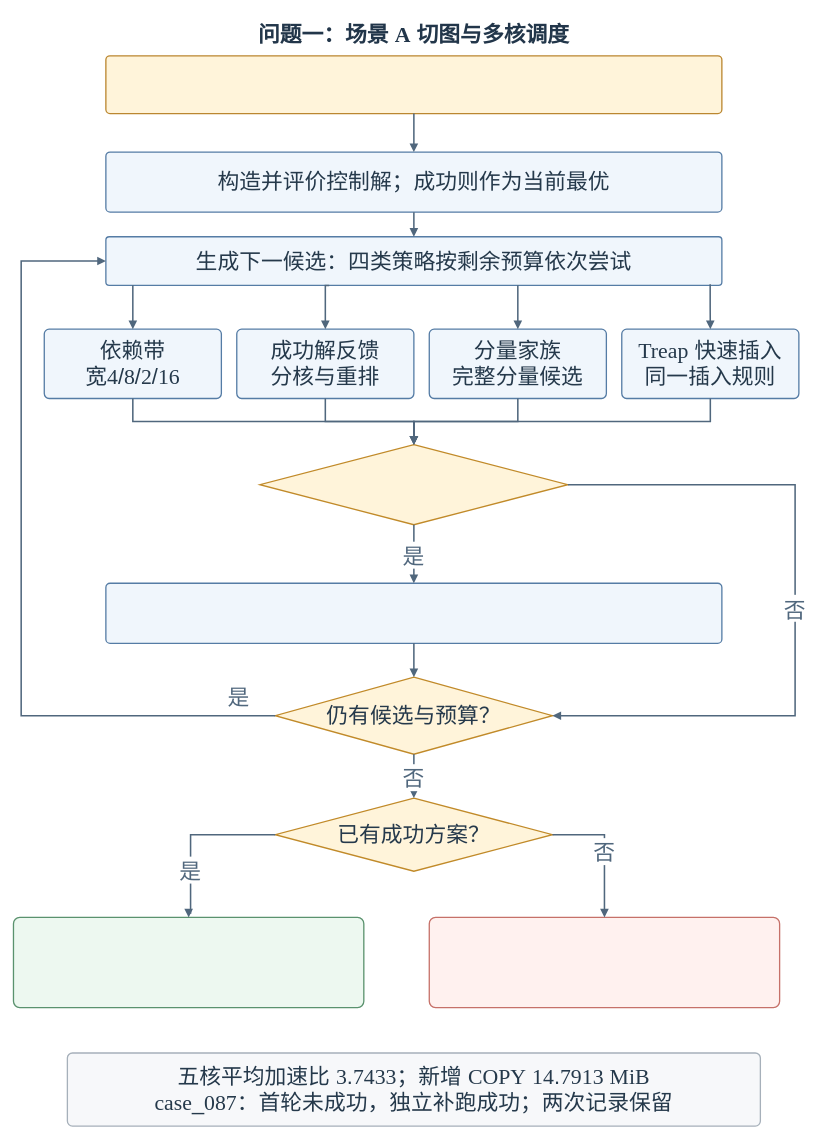
This 824x1140 diagram has some shape labels left out. Each missing label, with the centre of its shape:
原始图 G 、固定 A 配置、核数 k = 2 – 5 、总软预算: (413,84)
原版 A ：核内 Step 1 – 3 + 全局事件模拟 完整成功才择优：( Makespan , 新增 COPY , 名称): (413,613)
结构合法且未剪枝？: (413,484)
输出两字段方案 保留官方评价与完整状态记录: (188,962)
返回失败状态 保留原始失败原因，不补零: (604,962)
